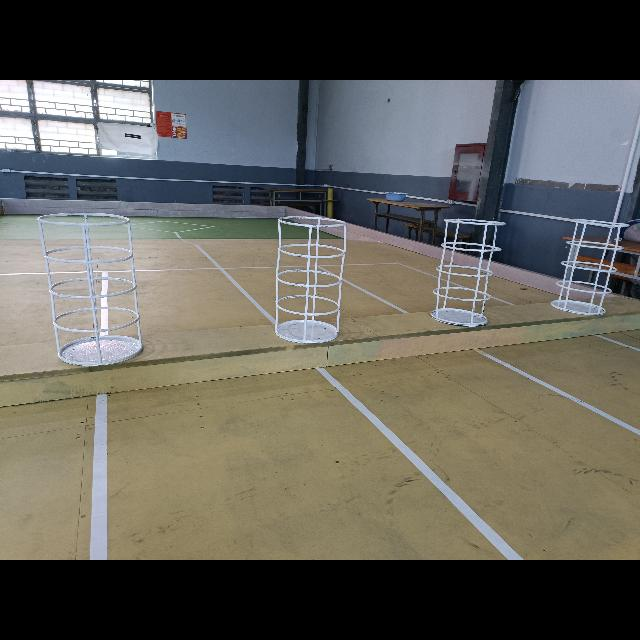S: (38, 212, 143, 367), (276, 216, 347, 343), (432, 219, 505, 326), (553, 219, 628, 315)
